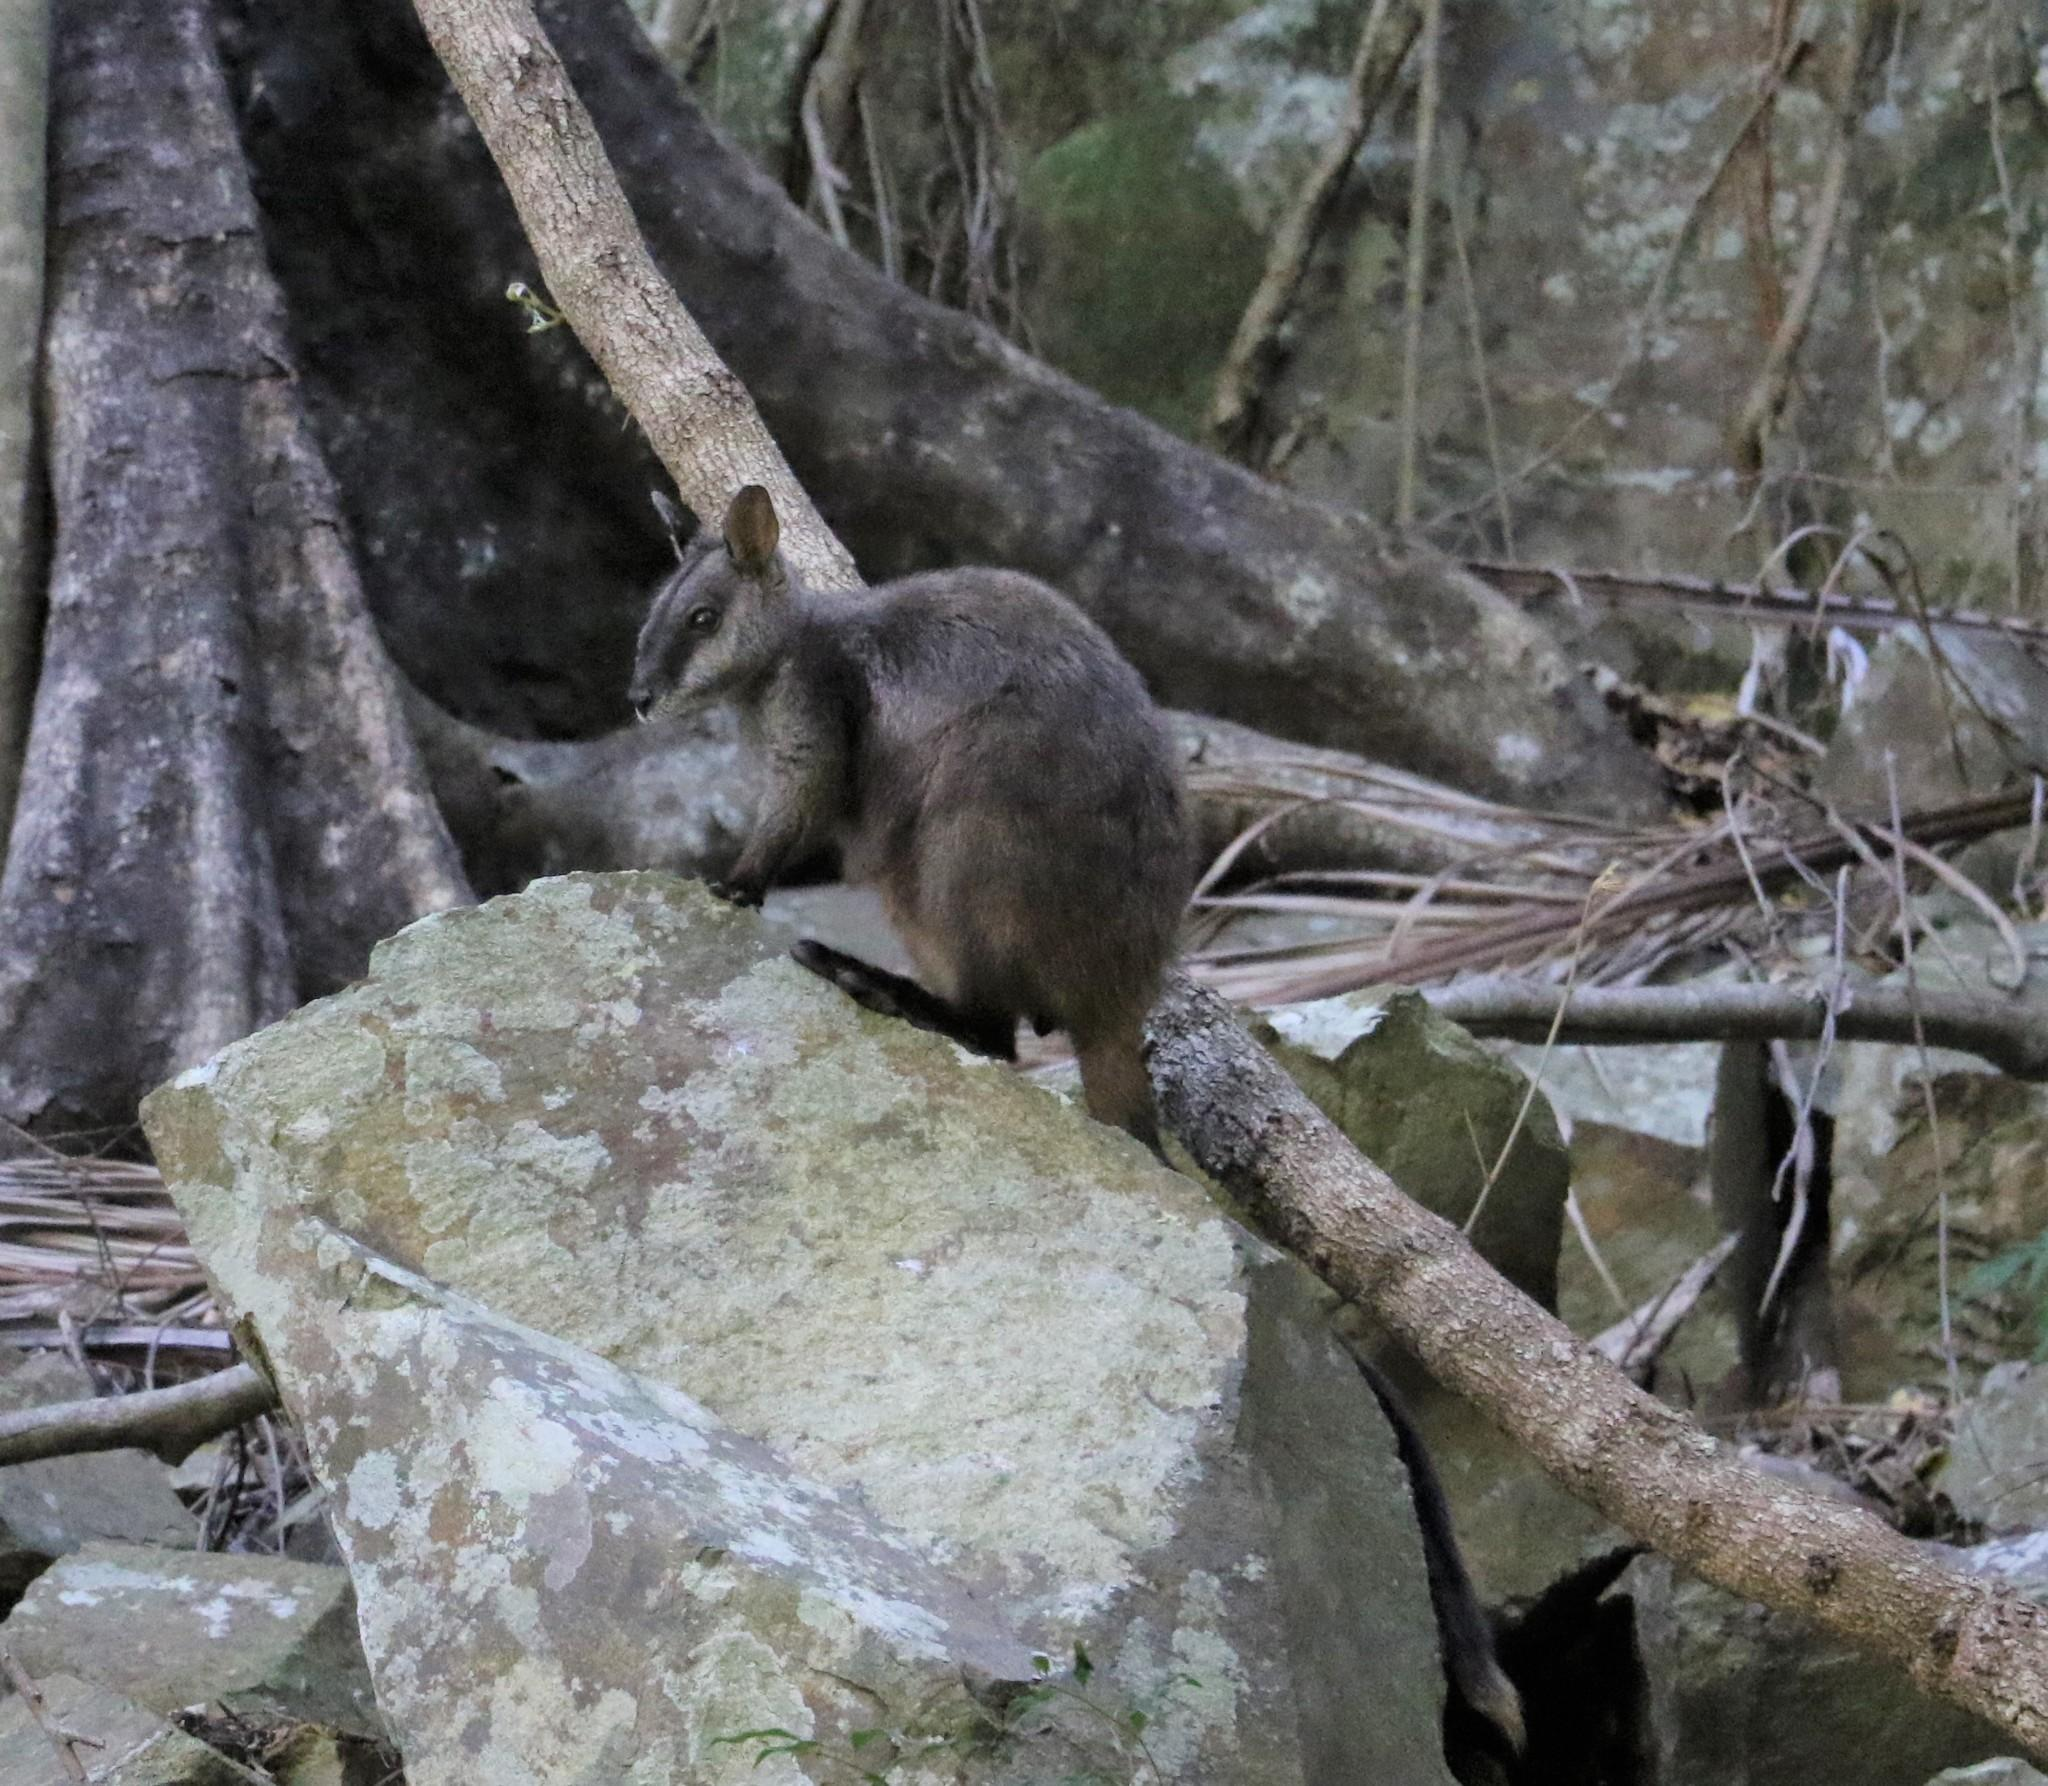Brush-tailed rock-wallaby: (622, 472, 1527, 1762)
